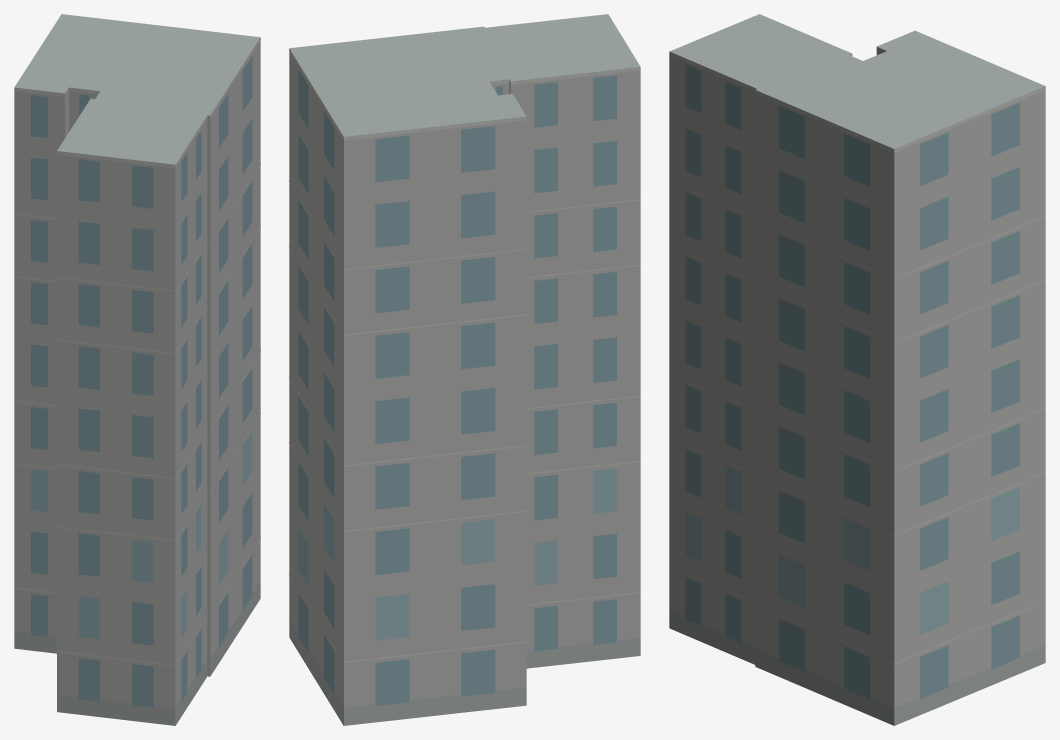
File: survey-upis-32661443.glb
3 renders of one model, left to right at view 1: azimuth 30°, elevation 25°; view 2: azimuth 150°, elevation 25°; view 3: azimuth 270°, elevation 25°, orthographic. The views are drawn at different scales.
Parts seen in each view (by area): view 1: survey-upis-32661443.tmp; view 2: survey-upis-32661443.tmp; view 3: survey-upis-32661443.tmp.
Boxes of the visible parts, <box> form: survey-upis-32661443.tmp: <box>14,14,260,725</box>; survey-upis-32661443.tmp: <box>289,14,640,725</box>; survey-upis-32661443.tmp: <box>669,14,1045,725</box>.
Size of the model in its own units: 18.85 by 37.5 by 22.18.
